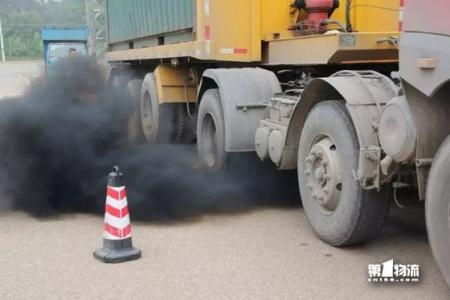smoke: (1, 55, 291, 225)
